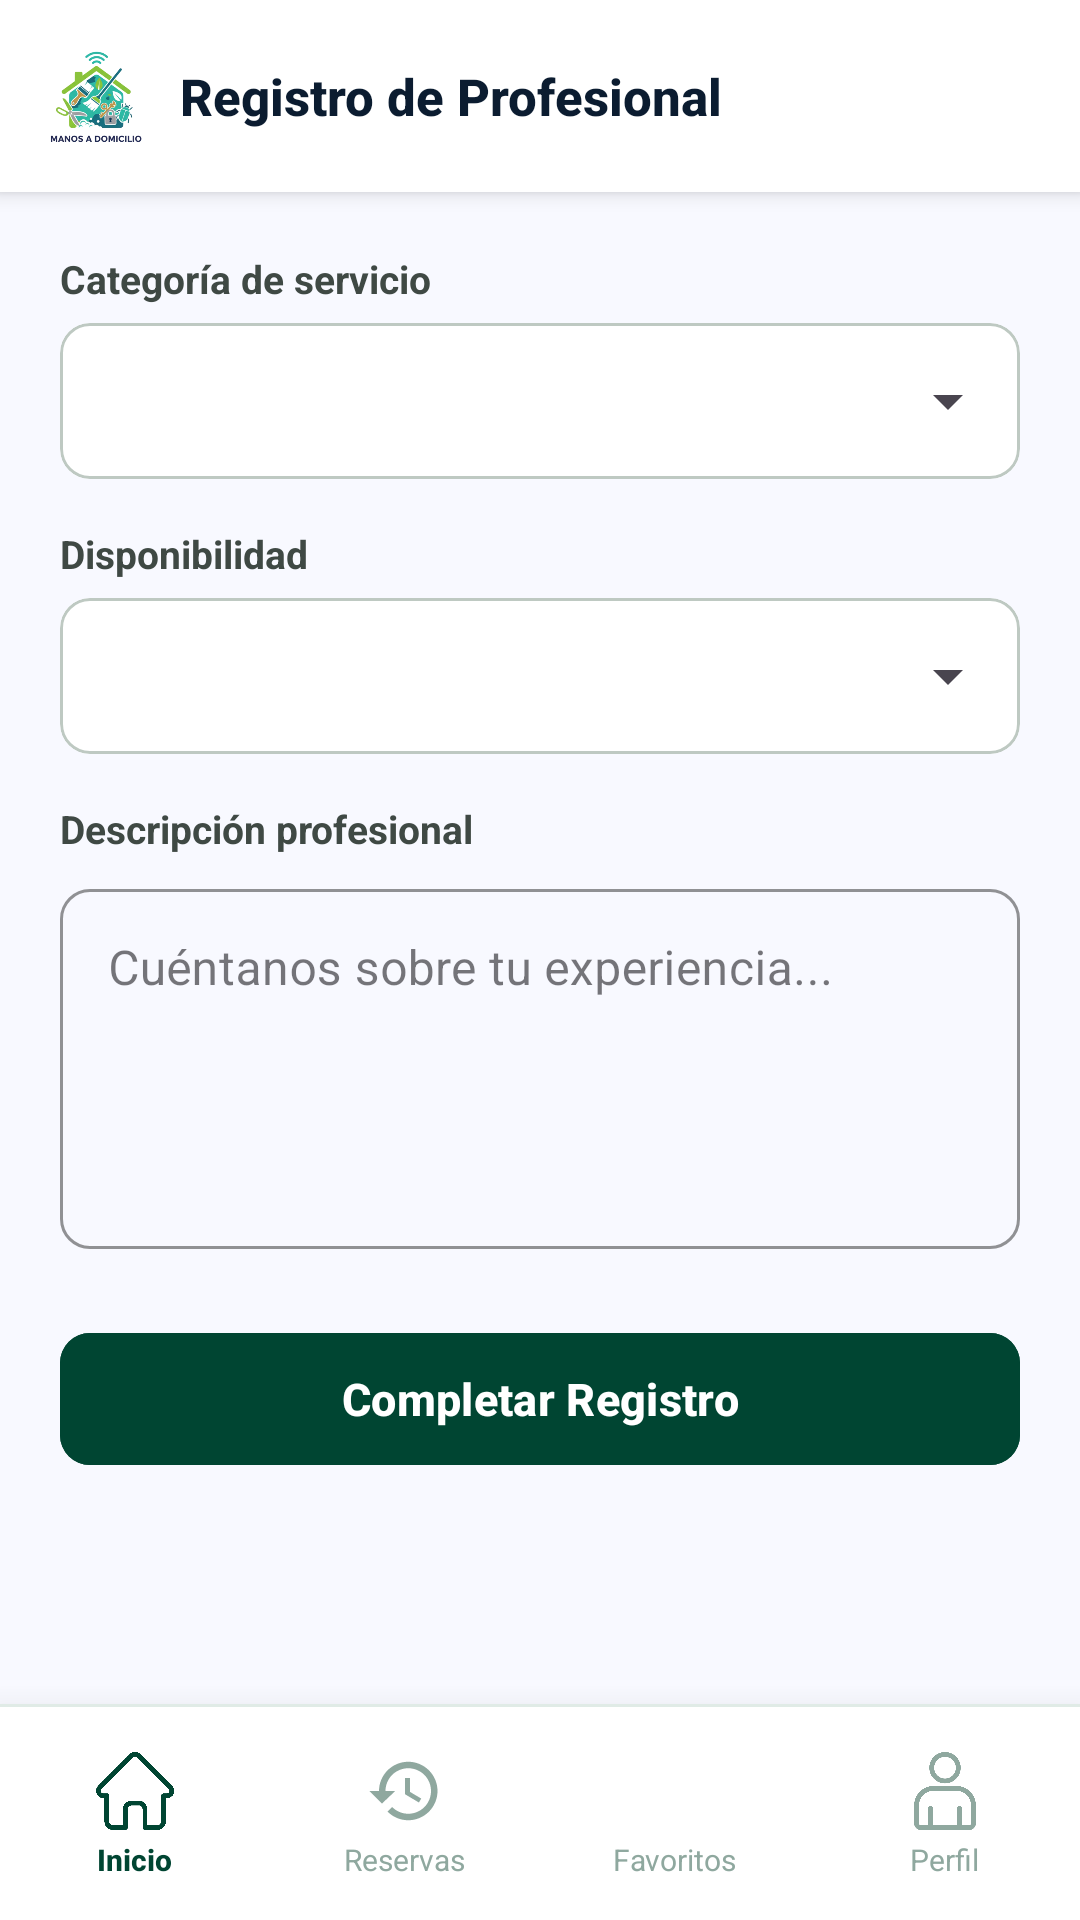

Named icons in this screenshot (1080x1920) and their bounding boxes, rect(x1, y1, x2, y2):
historial: rect(370, 1761, 438, 1821)
